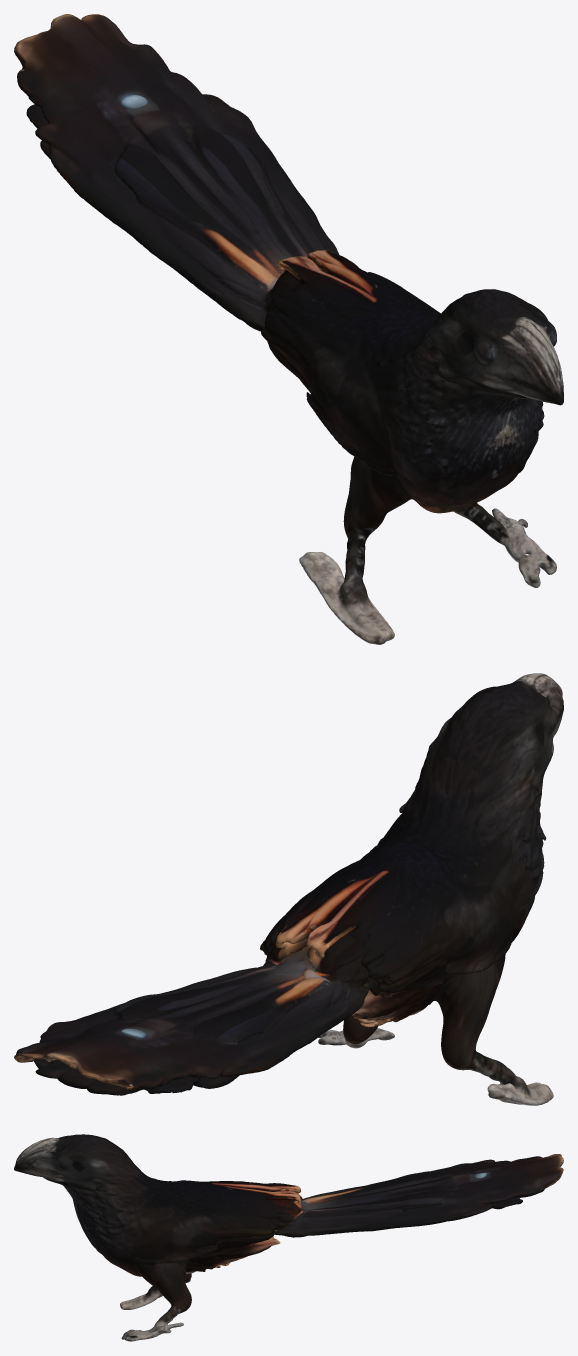
Rendered from Garrapatero 3D.glb.
The picture shows the model from 3 angles, top to bottom: view 1: azimuth 30°, elevation 25°; view 2: azimuth 150°, elevation 25°; view 3: azimuth 270°, elevation 25°; orthographic projection. The views are drawn at different scales.
Parts seen in each view (by area): view 1: tripo_node_86e55581-0360-4fa3-b5e1-3196f0bf76bf; view 2: tripo_node_86e55581-0360-4fa3-b5e1-3196f0bf76bf; view 3: tripo_node_86e55581-0360-4fa3-b5e1-3196f0bf76bf.
Boxes of the visible parts, x1=… form: tripo_node_86e55581-0360-4fa3-b5e1-3196f0bf76bf: x1=14, y1=14, x2=563, y2=644; tripo_node_86e55581-0360-4fa3-b5e1-3196f0bf76bf: x1=14, y1=673, x2=563, y2=1105; tripo_node_86e55581-0360-4fa3-b5e1-3196f0bf76bf: x1=14, y1=1134, x2=563, y2=1341.
Size of the model in its own units: 0.2419 by 0.3876 by 1.
Materials: 1 (1 with a texture image).
